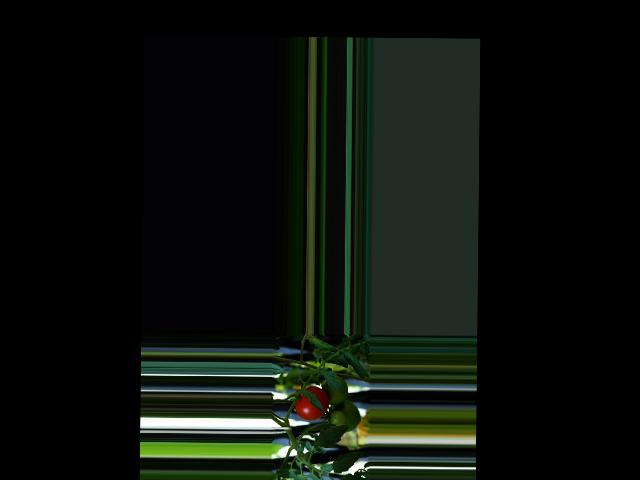tomato: (294, 386, 328, 421)
